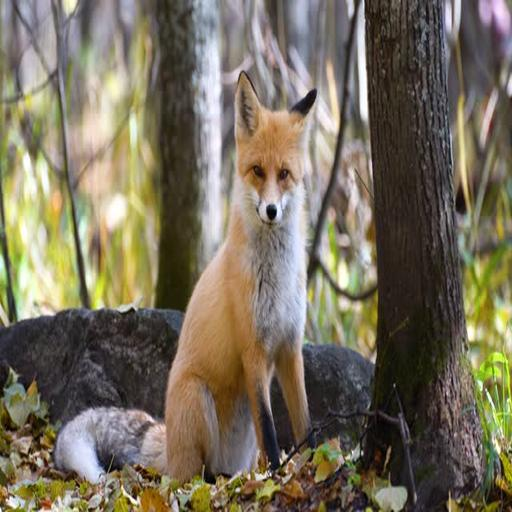Fox: (55, 71, 323, 488)
